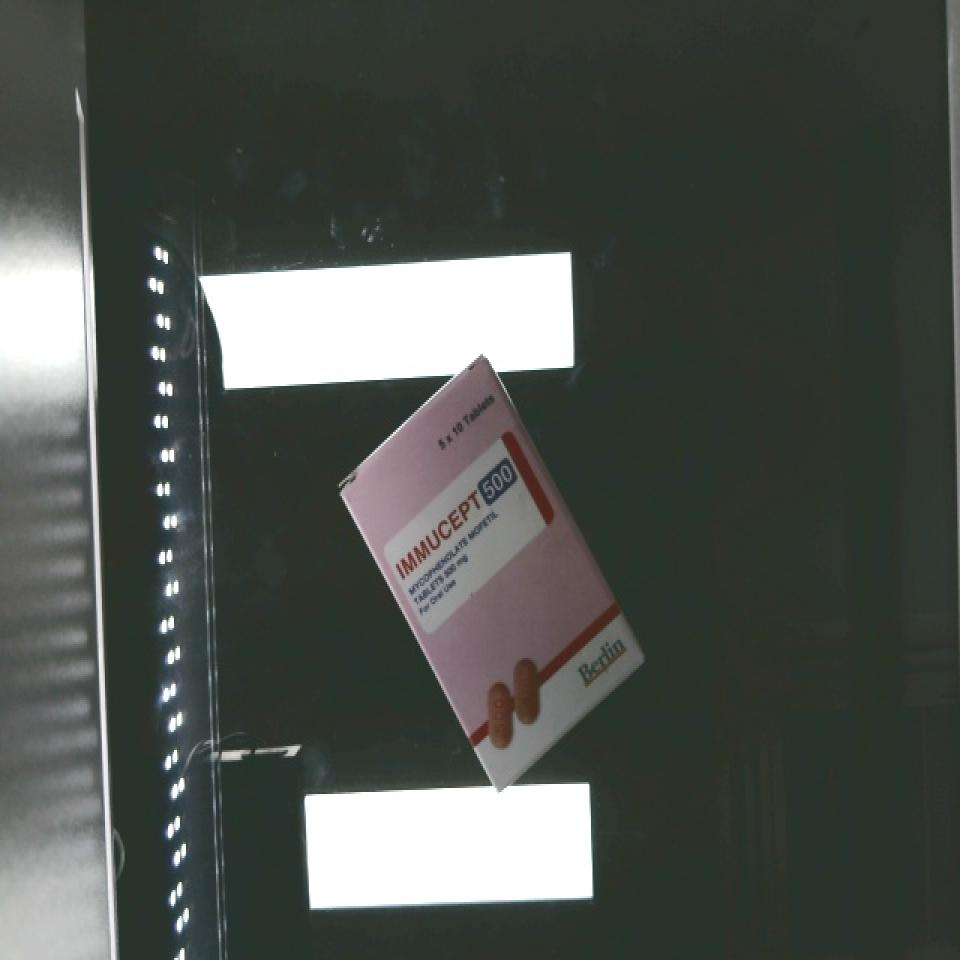medicine_box: (312, 359, 672, 798)
medicine_label_obb: (374, 436, 540, 599)
